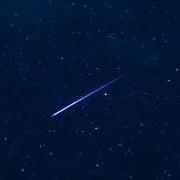meteorite: (42, 56, 147, 124)
